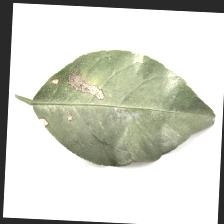canker: (45, 59, 121, 128)
